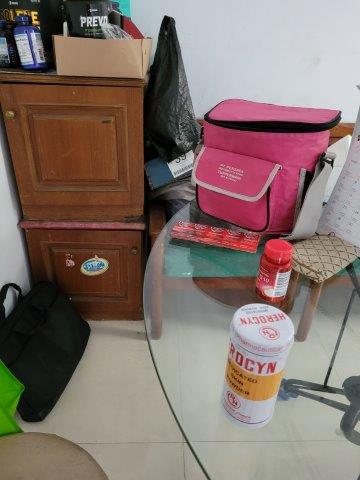kaleng: (222, 301, 294, 426)
